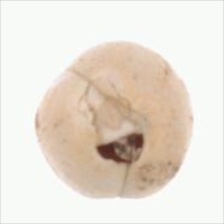L3: (84, 81, 145, 165)
L4: (35, 42, 193, 200)
